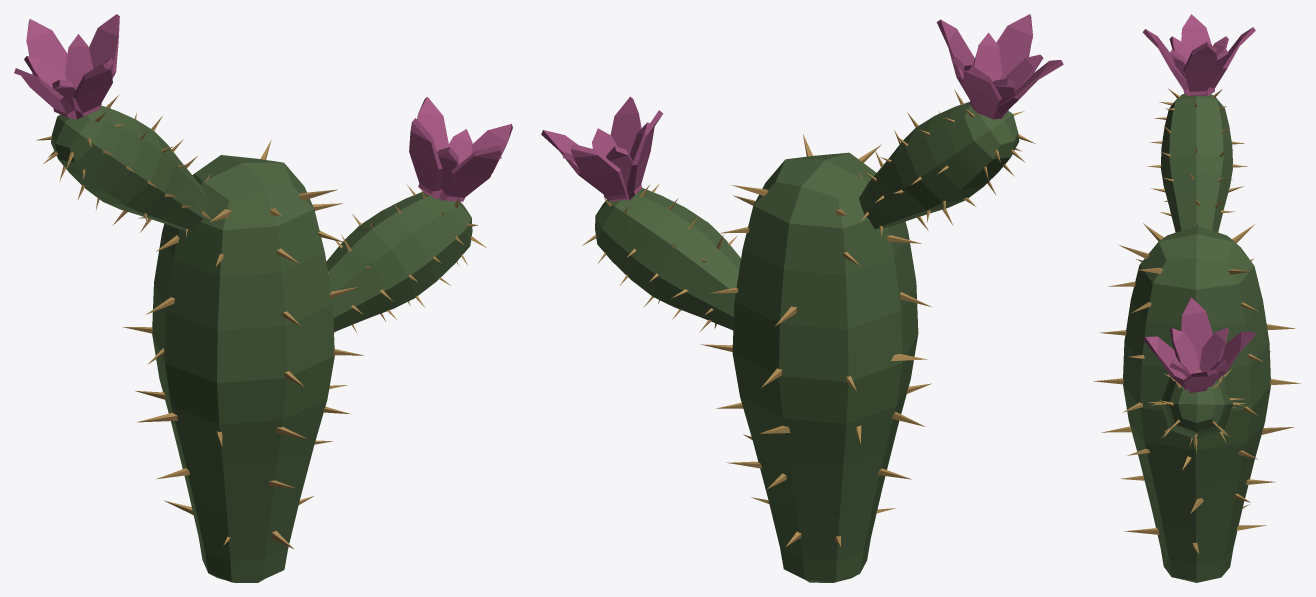
Rendered from Cactus_4.glb.
3 views of the same model, side by side, from view 1: azimuth 30°, elevation 25°; view 2: azimuth 150°, elevation 25°; view 3: azimuth 270°, elevation 25° (orthographic). The views are drawn at different scales.
Visible parts, largest first — view 1: Cactus_4; view 2: Cactus_4; view 3: Cactus_4.
Part boxes in pixels (x1,y1,x2,y2): Cactus_4: [14, 14, 512, 582]; Cactus_4: [541, 14, 1063, 582]; Cactus_4: [1094, 14, 1300, 582].
Size of the model in its own units: 1.31 by 1.43 by 0.5629.
